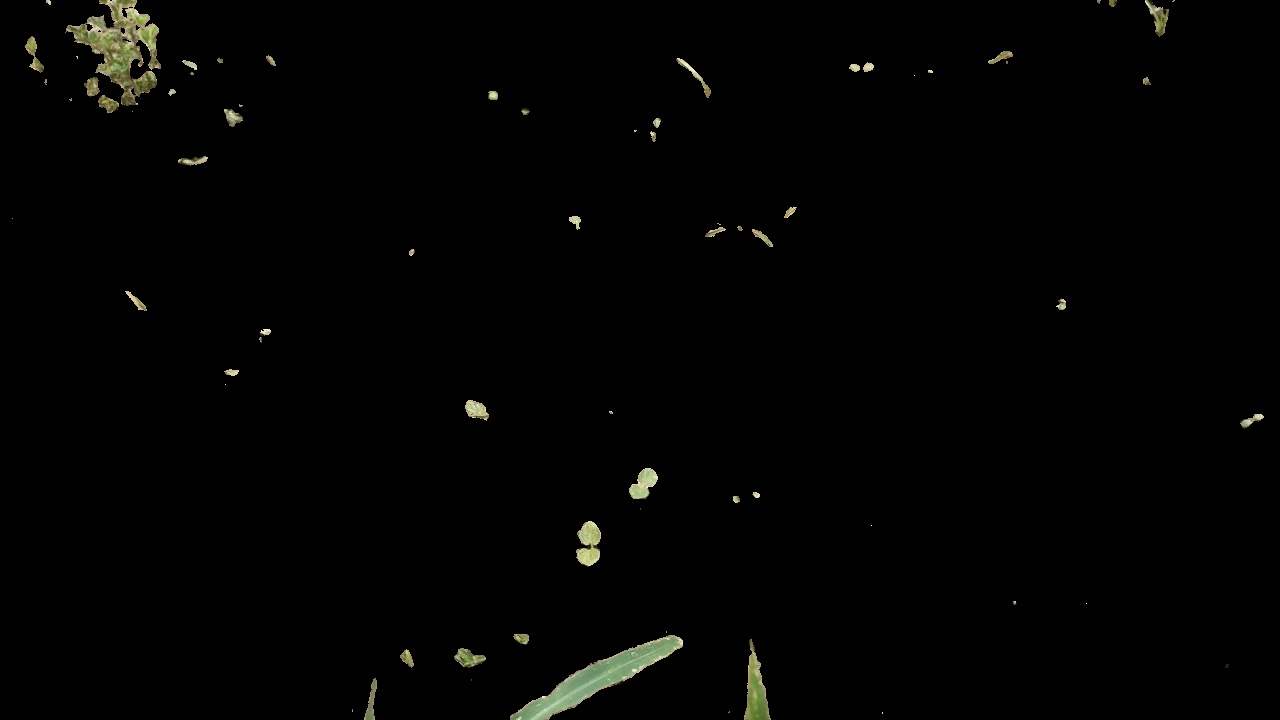crop: (298, 564, 689, 720), (722, 635, 775, 720)
weed: (48, 9, 169, 112), (568, 509, 611, 575), (1232, 393, 1269, 440), (458, 394, 498, 421), (626, 461, 655, 498), (841, 51, 875, 77), (452, 647, 489, 667)
